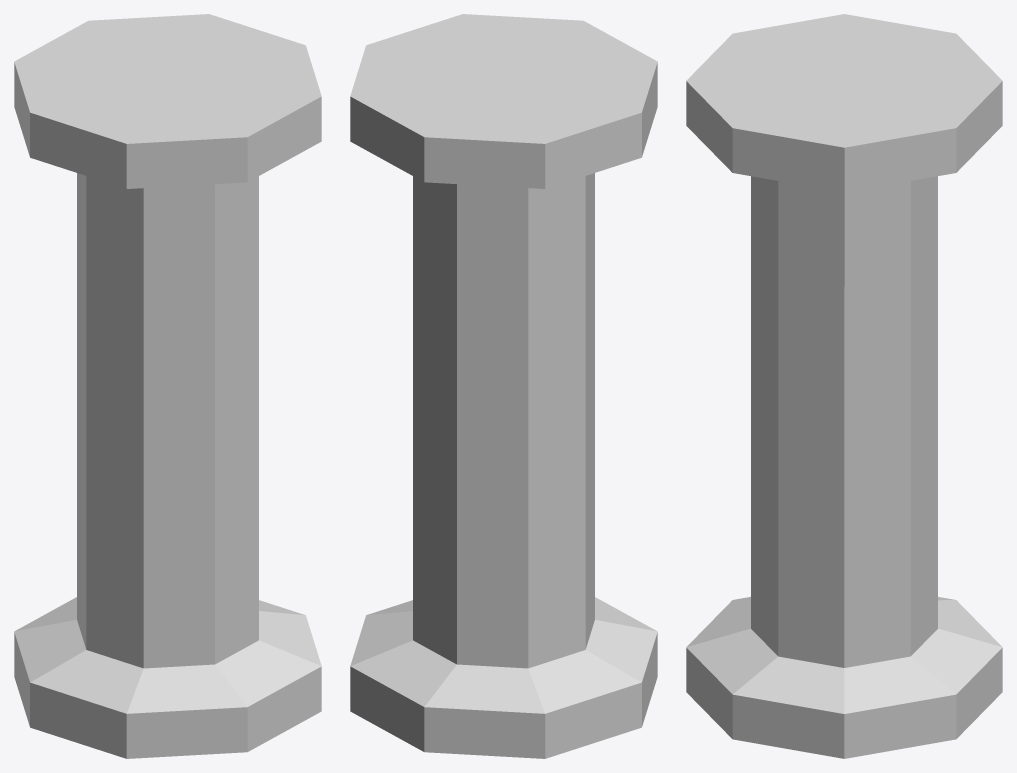
Rendered from circle_pillar.glb.
3 views of the same model, side by side, from view 1: azimuth 30°, elevation 25°; view 2: azimuth 150°, elevation 25°; view 3: azimuth 270°, elevation 25° (orthographic).
Visible parts, largest first — view 1: Circle_Pillar; view 2: Circle_Pillar; view 3: Circle_Pillar.
Boxes of the visible parts, box(x1,y1,x2,y2) form: Circle_Pillar: box(14, 14, 321, 758); Circle_Pillar: box(350, 14, 657, 758); Circle_Pillar: box(686, 14, 1002, 758).
Size of the model in its own units: 4.9 by 10.45 by 4.9.
Materials: 1 (1 with a texture image).
